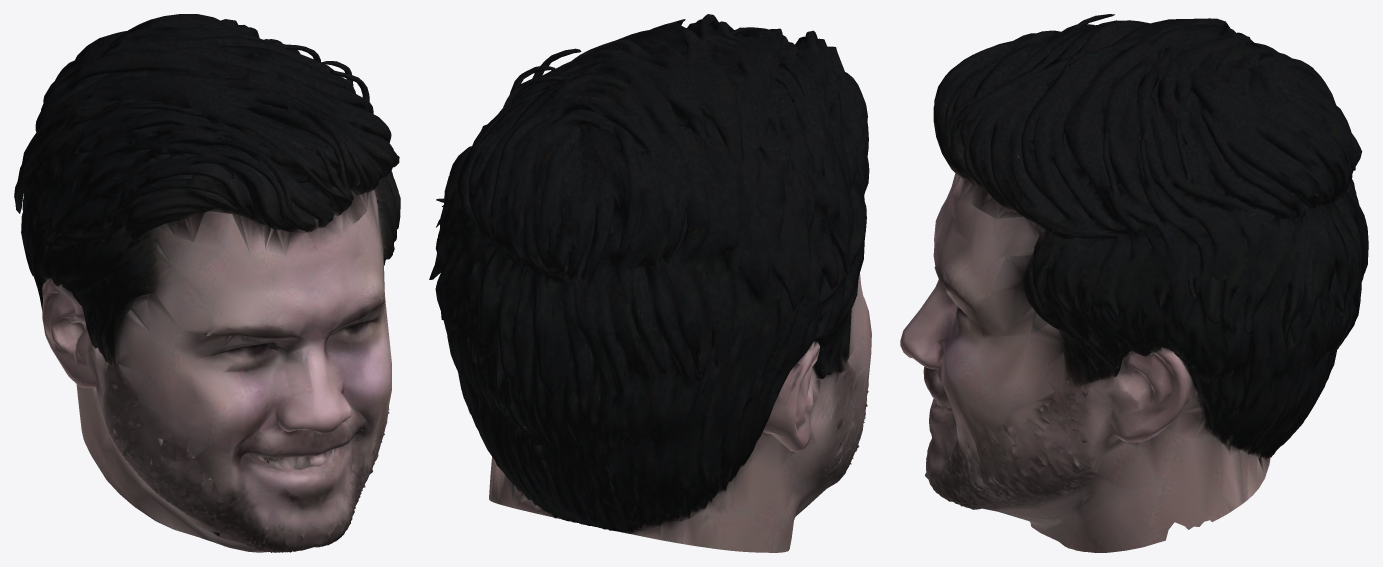
Rendered from head_darren.glb.
3 views of the same model, side by side, from view 1: azimuth 30°, elevation 25°; view 2: azimuth 150°, elevation 25°; view 3: azimuth 270°, elevation 25° (orthographic). The views are drawn at different scales.
Visible parts, largest first — view 1: Mesh_0; view 2: Mesh_0; view 3: Mesh_0.
Boxes of the visible parts, left/top/right/bottom form: Mesh_0: left=14, top=14, right=400, bottom=552; Mesh_0: left=429, top=14, right=871, bottom=552; Mesh_0: left=900, top=14, right=1368, bottom=552.
Bounding box in the file's own units: 0.7927 × 1.02 × 0.8957.
Materials: 1 (1 with a texture image).
